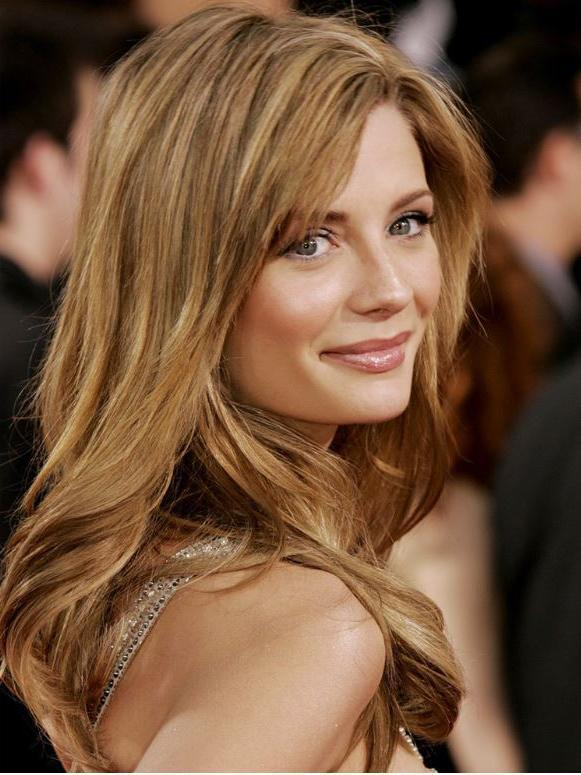Sober: (244, 102, 442, 417)
